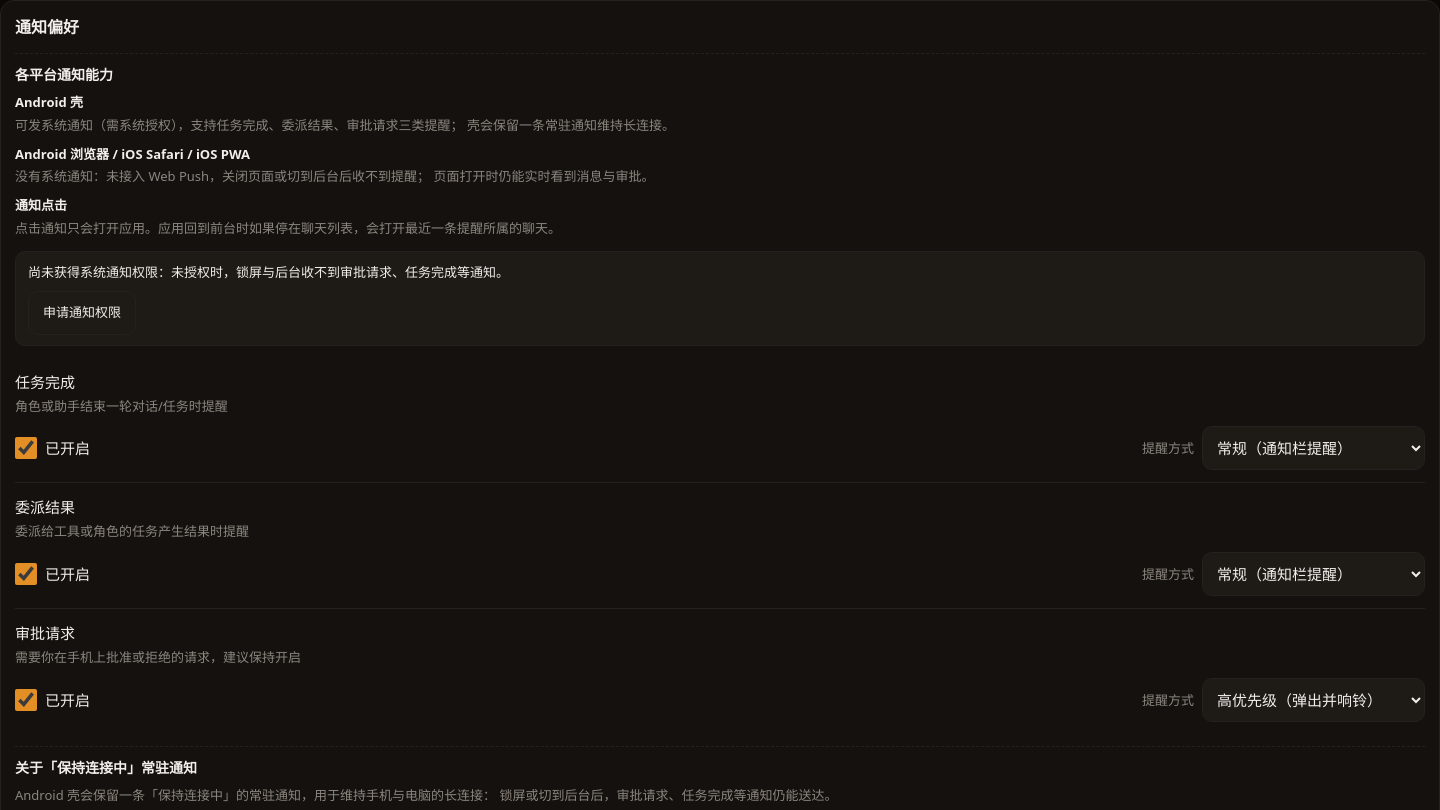
Test: NotificationPreferences 组件 › 申请被拒时提示仍未获得系统通知权限
Step 1. Click the button with test id "btn-request-permission" → (82, 313), box 28,291 -> 136,335
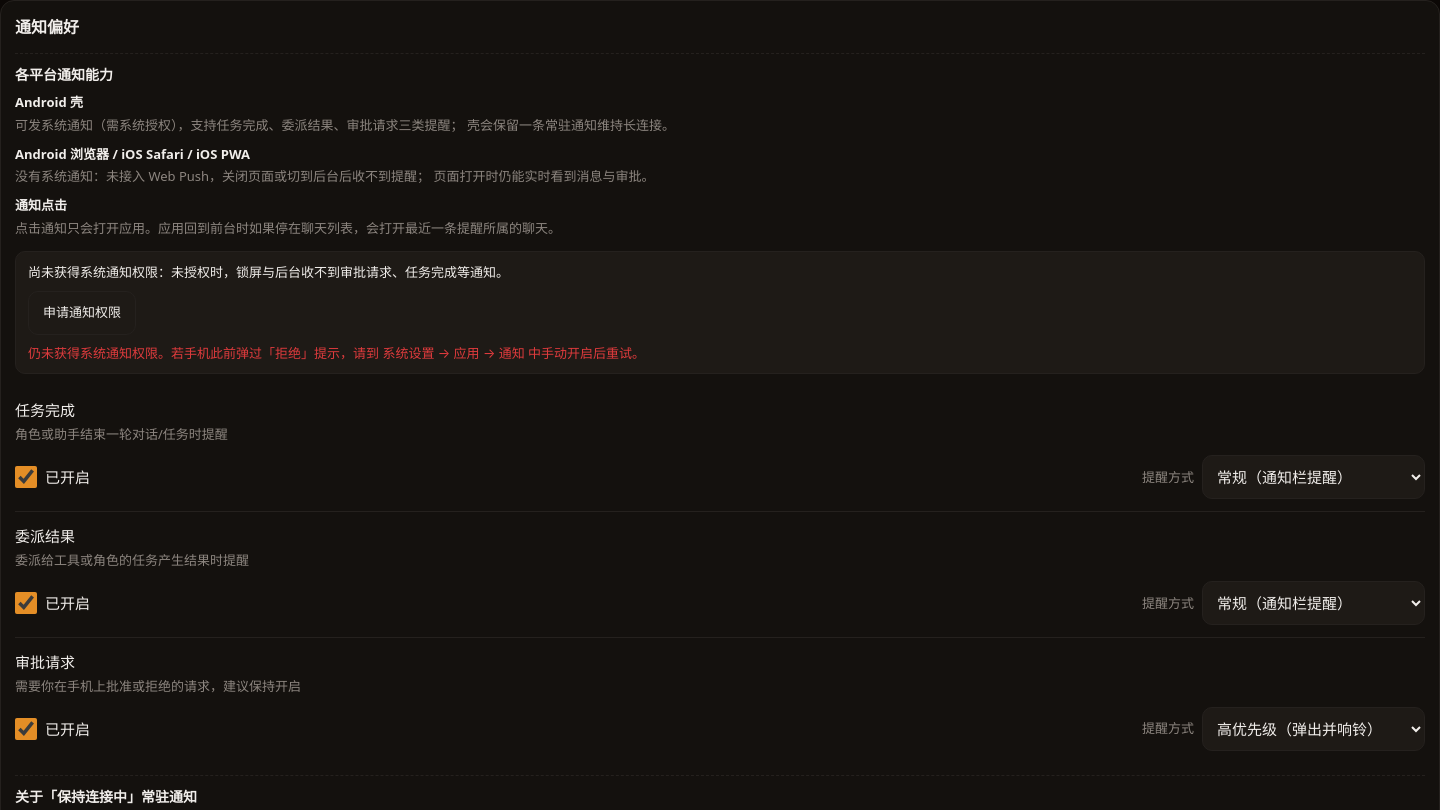
Check: the message with test id "notif-permission-error" shows "仍未获得系统通知权限", box 28,344 -> 645,362
